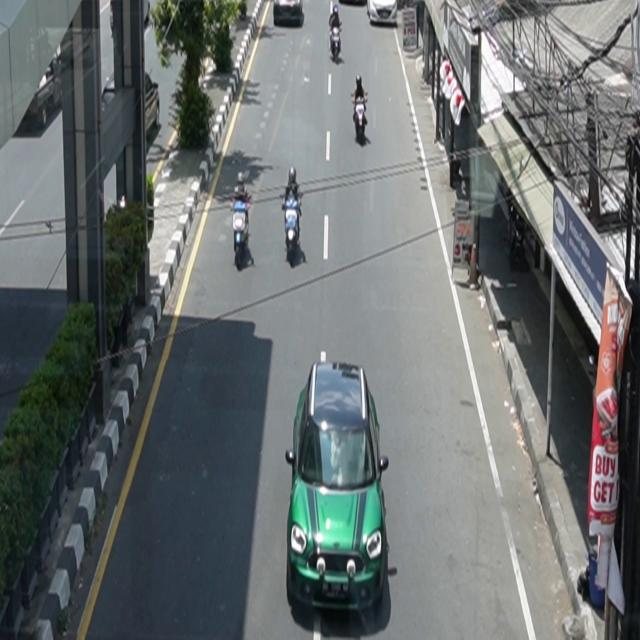car: (286, 354, 390, 616), (274, 1, 305, 28), (368, 1, 398, 26)
